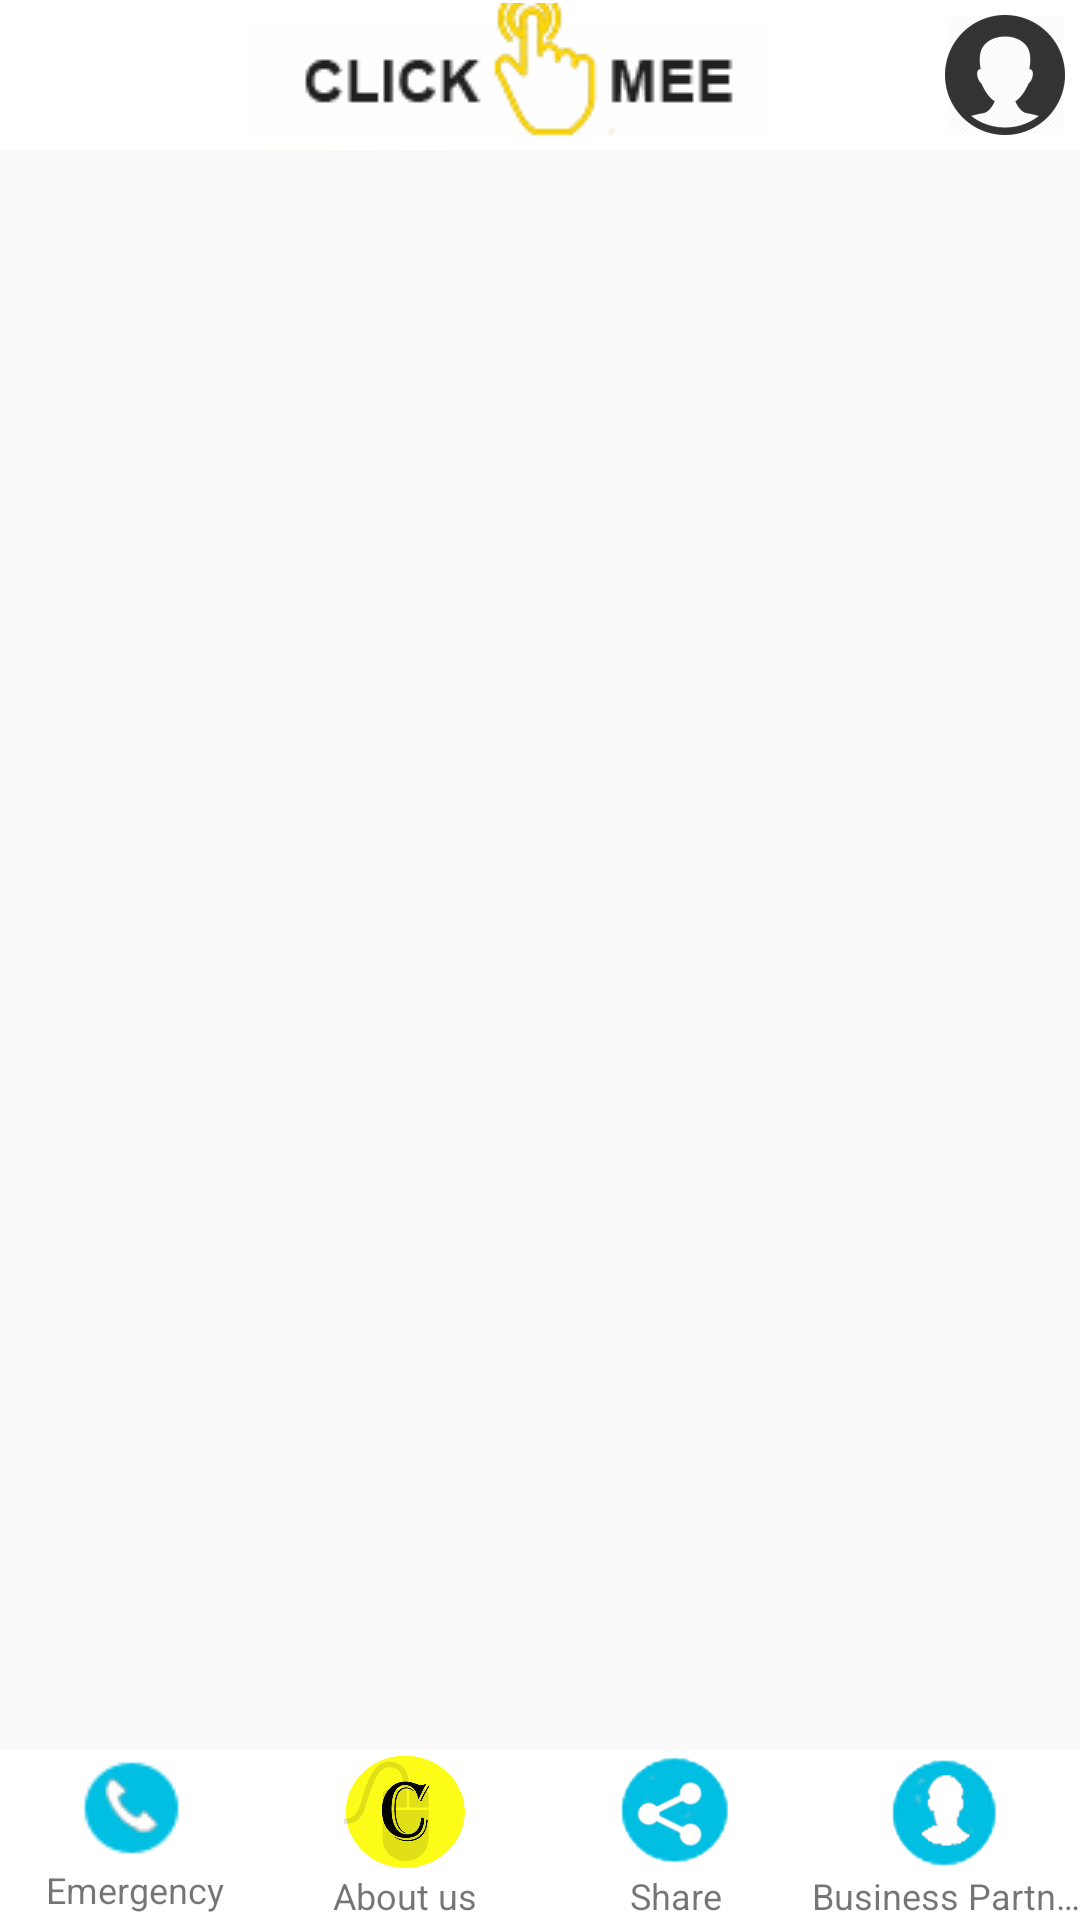

Icons on this 1080w x 1920h Android screen, each with its box as (x1, y1, x2, y2):
callicon: (84, 1762, 179, 1854)
profilecon: (945, 15, 1065, 135)
